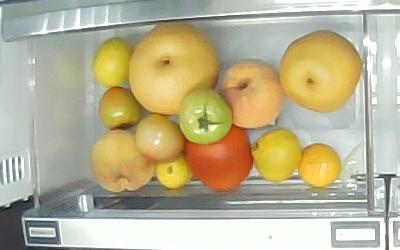peach: (217, 59, 284, 130), (89, 128, 154, 193)
pear: (127, 24, 220, 116), (280, 30, 363, 115)
tangerine: (251, 128, 303, 181), (92, 38, 131, 89), (298, 143, 340, 187), (156, 156, 190, 189)
tomato: (184, 125, 253, 193), (178, 88, 232, 145), (135, 114, 185, 162), (99, 86, 142, 130)
